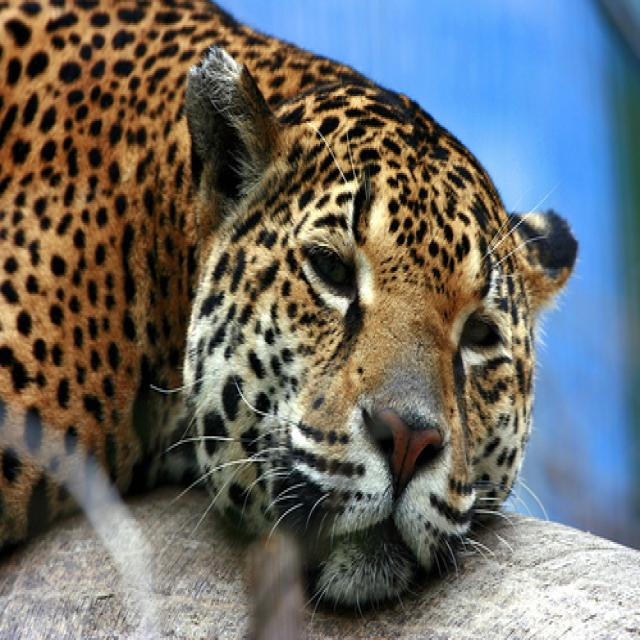Leopard: (0, 0, 580, 611)
